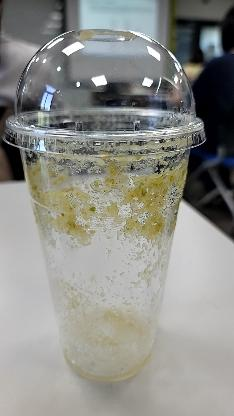Plastic Cup: (3, 27, 208, 384), (4, 28, 206, 158)
